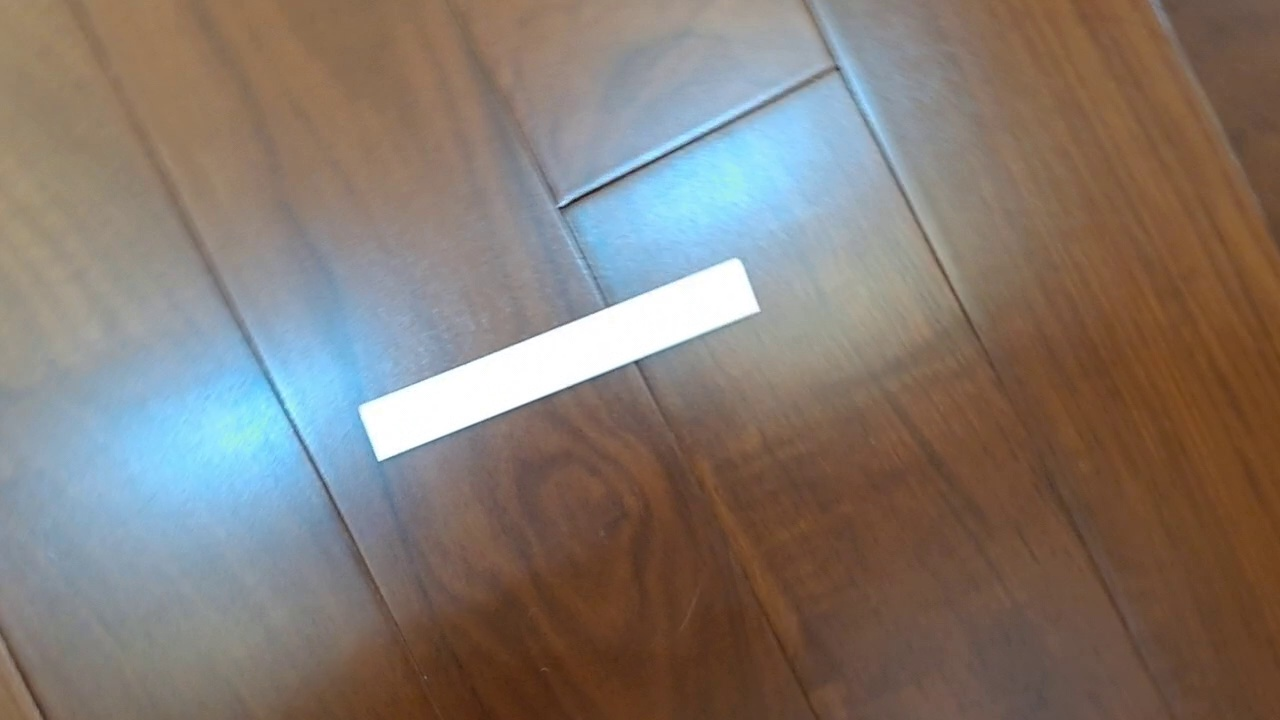ruler: (356, 255, 763, 464)
